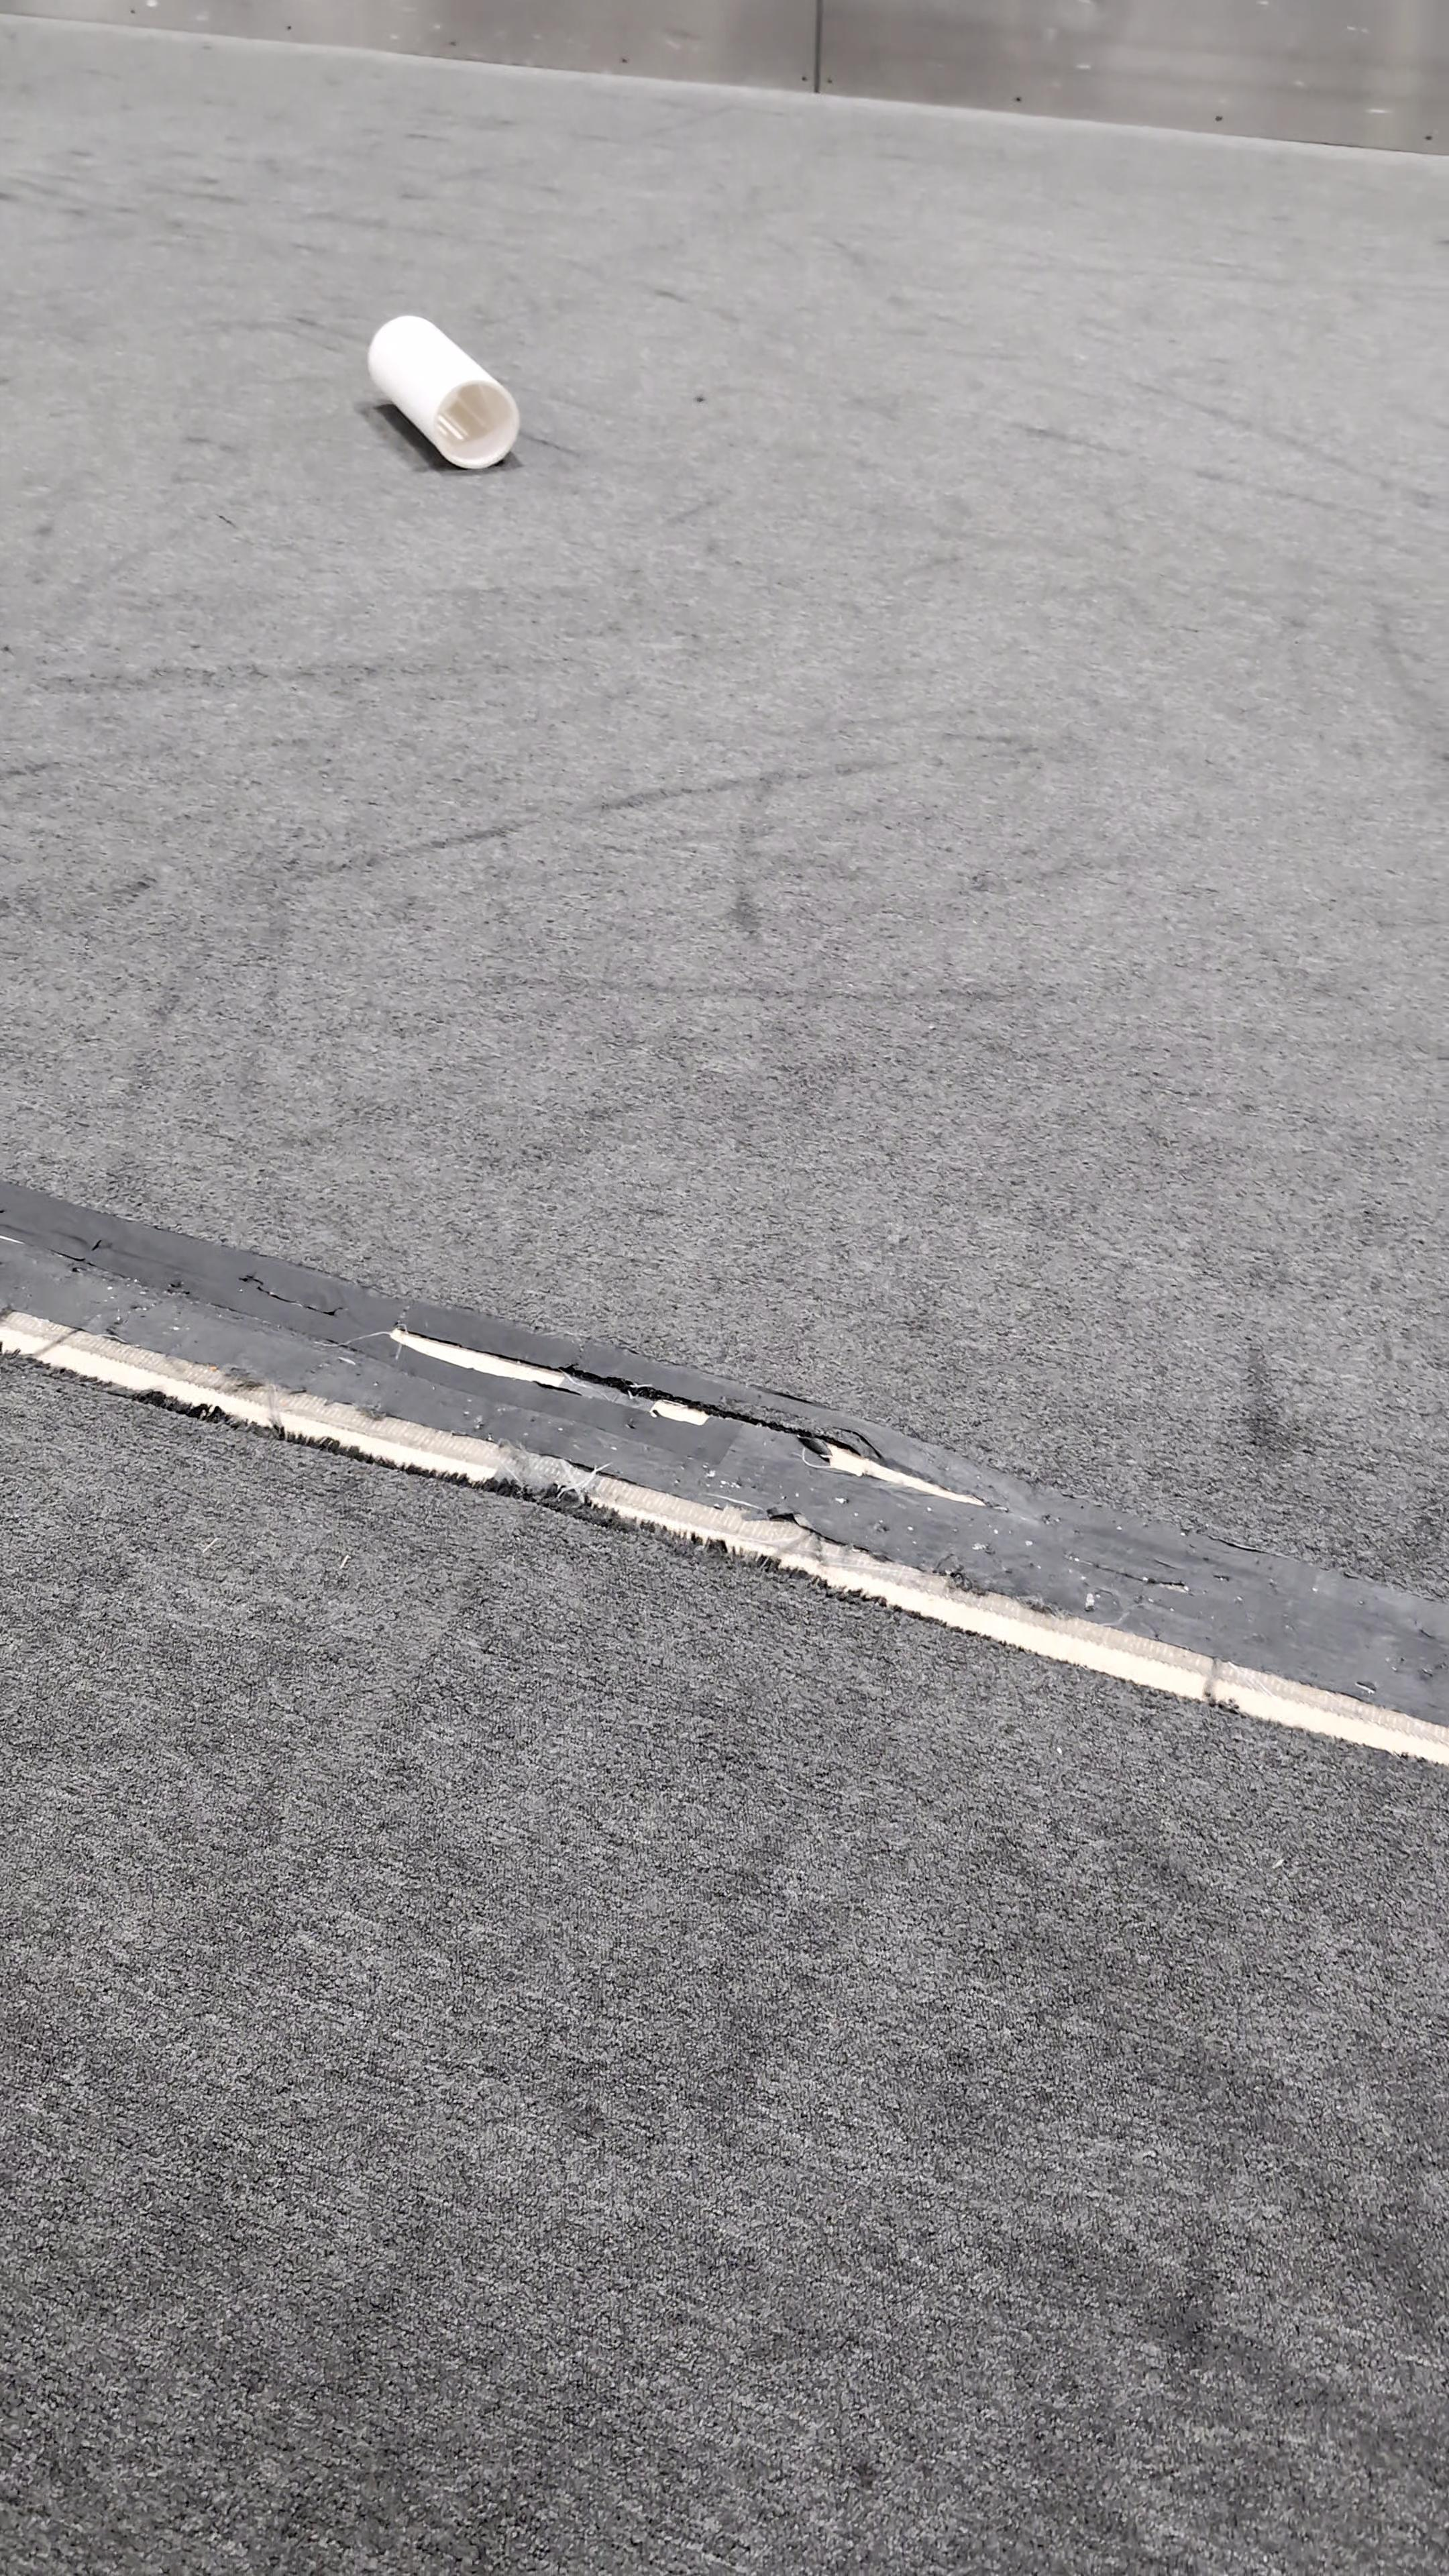coral: (366, 310, 525, 467)
